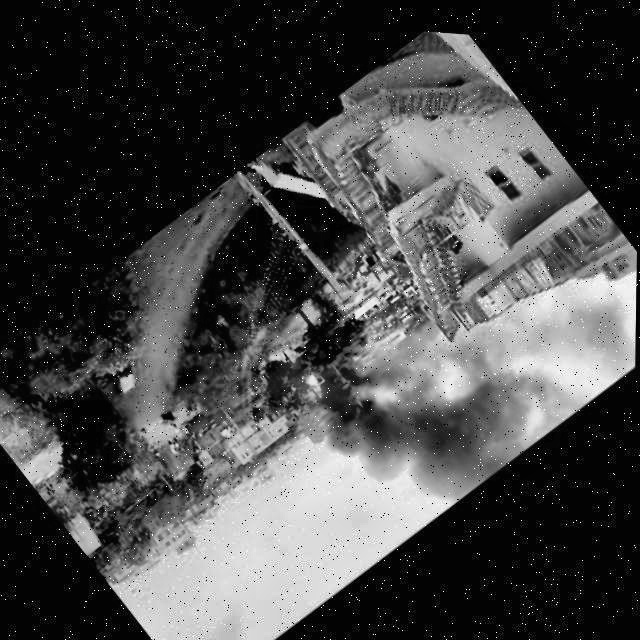Fire: (295, 370, 326, 403)
Smoke: (302, 205, 638, 552)
